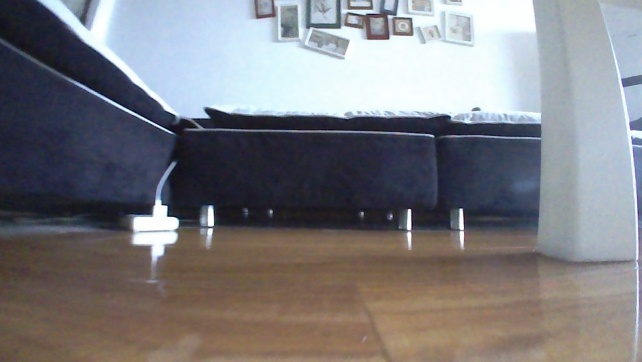sofa: (0, 0, 549, 234)
